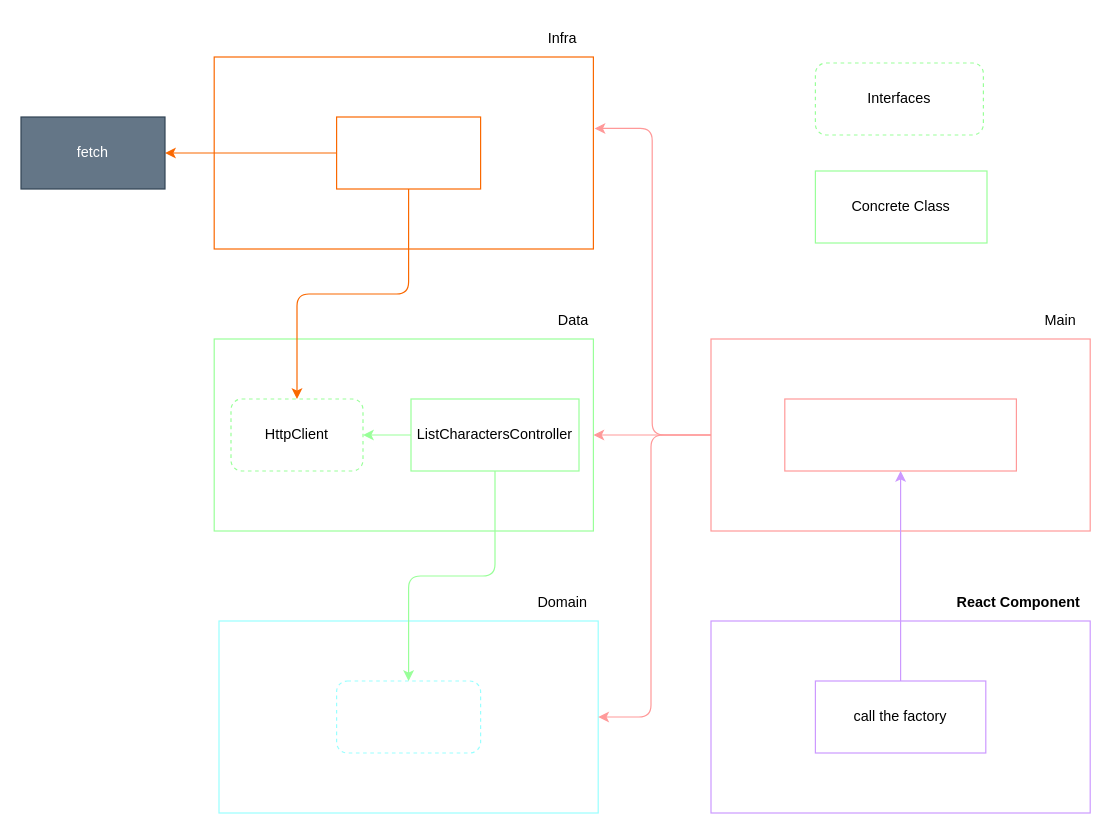
Image size: 1117x834. Some labels were removed from this diagram. The shapes that lost their labels are listed below. From the top down, each one's centre as x and y in pixels, then its label:
At point 408,152: "FetchHttpClient".
At point 900,434: "MakeListCharactersController".
At point 408,716: "LoadCharacters".
